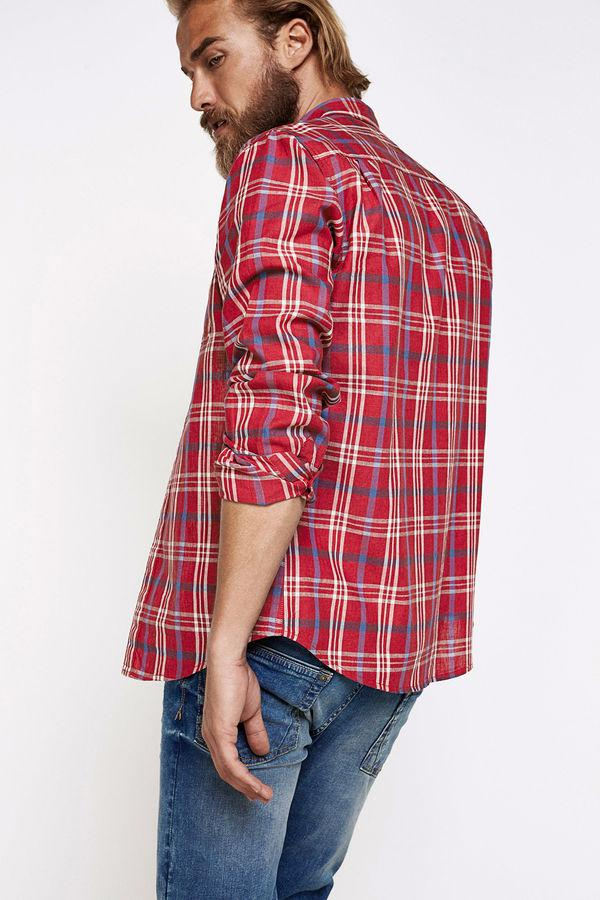teeshirt: (124, 96, 501, 741)
